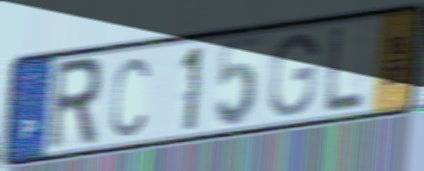1: (179, 43, 206, 134)
5: (213, 32, 267, 130)
C: (108, 54, 152, 141)
G: (267, 31, 320, 119)
L: (321, 23, 367, 117)
R: (44, 54, 104, 155)
